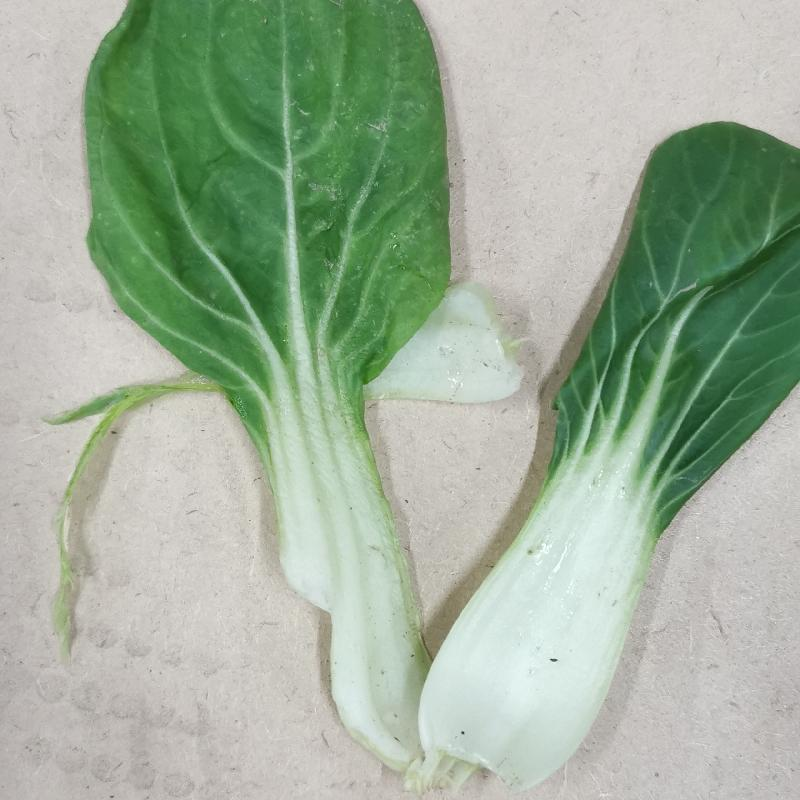green vegatable: (68, 3, 771, 776)
